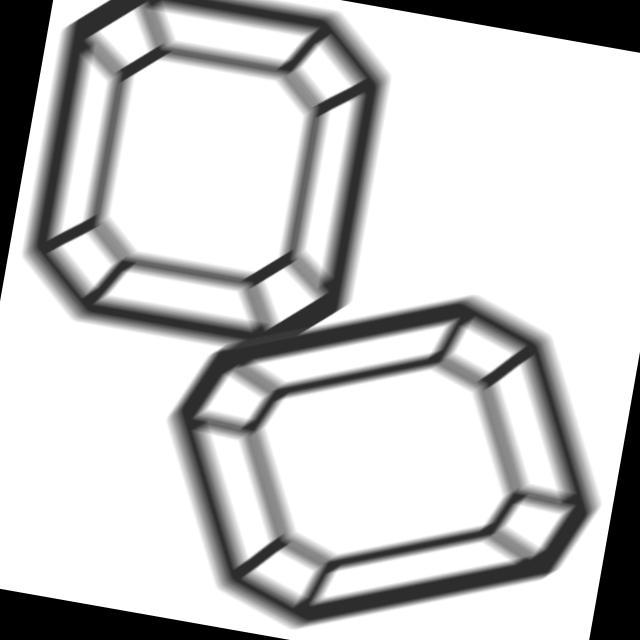emerald: (125, 240, 639, 640), (5, 1, 412, 379)
